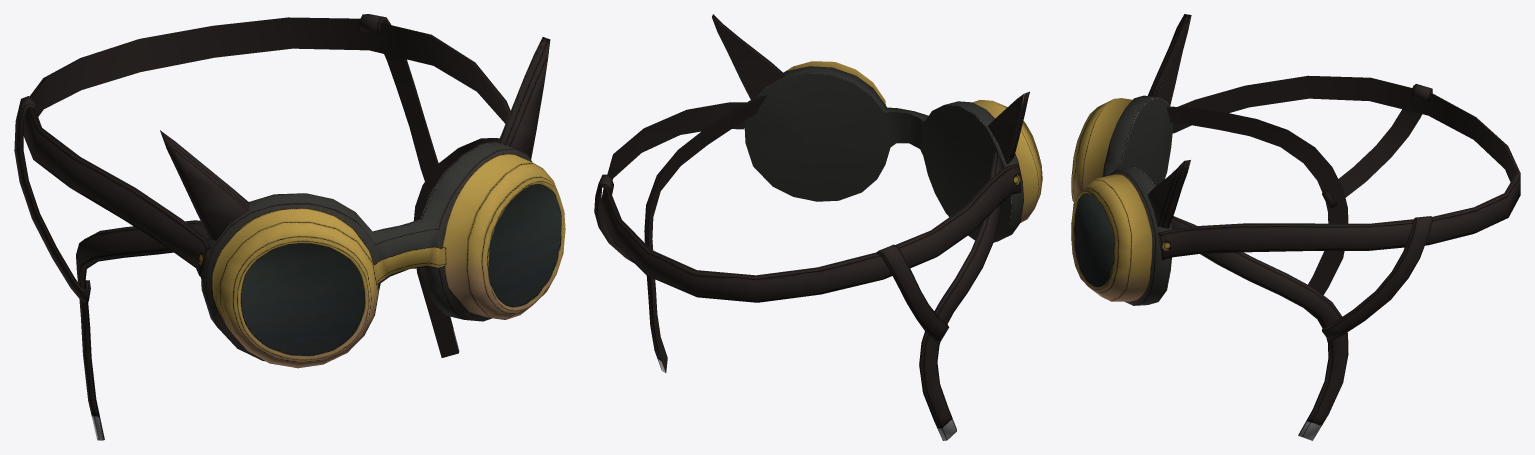
The model's file is _headwear_028_xiaoheihe.fbx.
The picture shows the model from 3 angles, left to right: view 1: azimuth 30°, elevation 25°; view 2: azimuth 150°, elevation 25°; view 3: azimuth 270°, elevation 25°; orthographic projection. The views are drawn at different scales.
Visible parts, largest first — view 1: f_headwear_028_xiaoheihe; view 2: f_headwear_028_xiaoheihe; view 3: f_headwear_028_xiaoheihe.
Part boxes in pixels (x1,y1,x2,y2): f_headwear_028_xiaoheihe: [14, 14, 565, 440]; f_headwear_028_xiaoheihe: [594, 14, 1042, 440]; f_headwear_028_xiaoheihe: [1071, 14, 1520, 440].
Bounding box in the file's own units: 17.57 × 15.3 × 21.55.
